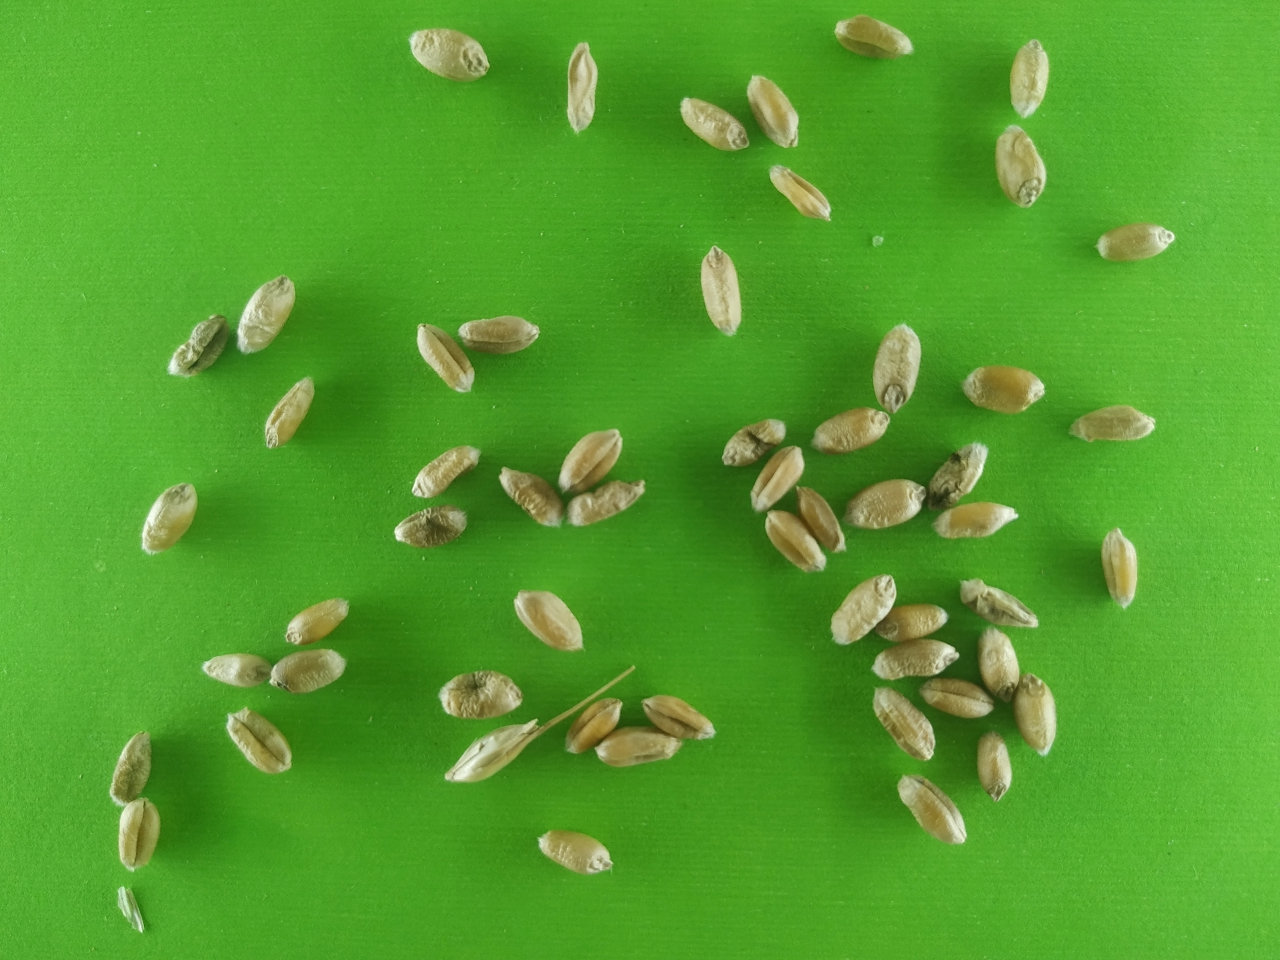bueno: (895, 773, 969, 847), (869, 683, 934, 762), (872, 320, 924, 416), (238, 271, 297, 354), (829, 573, 897, 645), (511, 588, 587, 652), (961, 363, 1046, 418), (224, 707, 292, 775), (557, 426, 625, 495), (843, 476, 927, 531), (995, 122, 1045, 210), (406, 25, 492, 77), (140, 480, 198, 554), (744, 71, 798, 147), (930, 496, 1021, 542), (500, 463, 563, 527), (417, 321, 474, 392), (263, 374, 316, 450), (680, 96, 750, 153), (765, 508, 827, 571), (115, 797, 164, 874), (413, 442, 479, 500), (868, 637, 957, 680), (835, 13, 913, 61), (768, 164, 833, 221), (269, 646, 346, 694), (796, 483, 848, 554), (1096, 527, 1139, 611), (1013, 674, 1057, 755), (460, 312, 540, 356), (749, 446, 804, 510), (811, 405, 890, 451), (538, 827, 612, 875), (700, 246, 740, 335), (1069, 405, 1158, 445), (640, 694, 716, 739), (565, 698, 625, 755), (977, 630, 1022, 703), (919, 677, 995, 718), (597, 729, 680, 766), (113, 727, 152, 805), (1097, 223, 1178, 260), (1011, 45, 1052, 118), (288, 597, 349, 644), (874, 602, 948, 640), (973, 731, 1012, 801), (203, 652, 270, 690)
danado: (957, 575, 1040, 628), (564, 476, 648, 526), (167, 313, 231, 378), (928, 438, 989, 505), (438, 669, 524, 716), (392, 504, 471, 546), (721, 418, 785, 464)
impureza: (539, 664, 635, 736), (444, 717, 537, 782), (568, 45, 600, 131), (113, 884, 147, 937)
